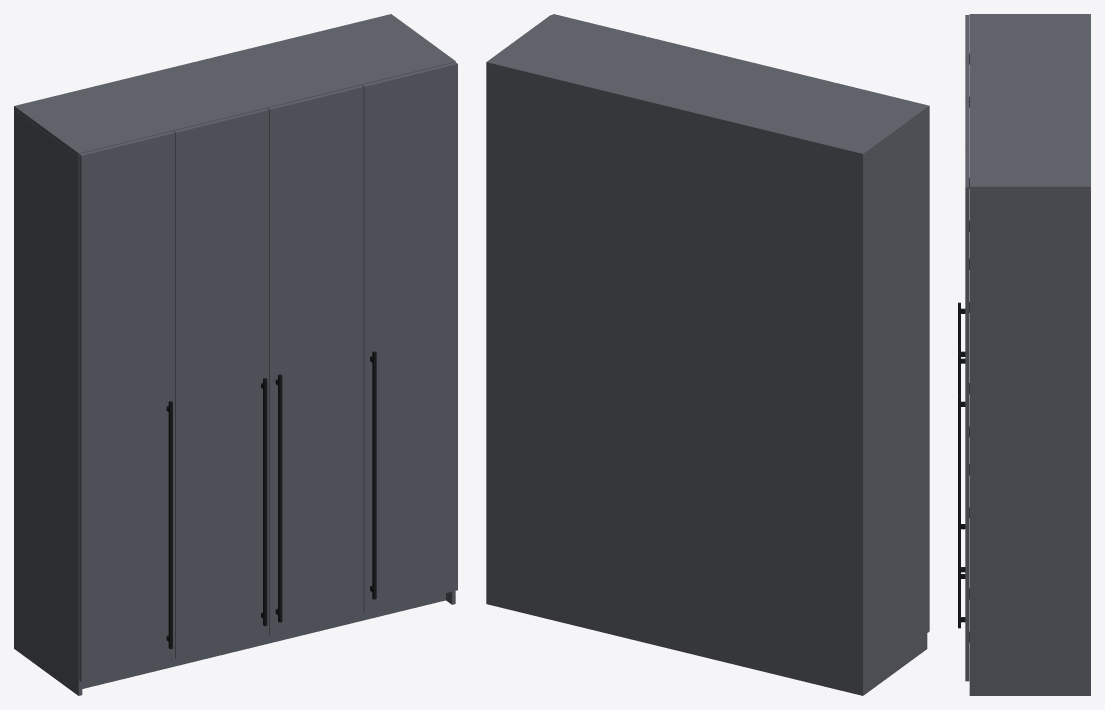
Rendered from wardrobe-08-four-door.glb.
3 views of the same model, side by side, from view 1: azimuth 30°, elevation 25°; view 2: azimuth 150°, elevation 25°; view 3: azimuth 270°, elevation 25° (orthographic). The views are drawn at different scales.
Parts seen in each view (by area): view 1: Door_Outer_Right_Panel_Tile_ccc, Door_Outer_Left_Panel_Tile_ccc, Door_Center_Right_Panel_Tile_ccc, Door_Center_Left_Panel_Tile_ccc, Panel_Side_Left_Tile_ccc, Panel_Top_Tile_ccc, Plinth_Front_Tile_ccc, Door_Outer_Left_Panel_Tile_mcc, Handle_Center_Right_Bar, Handle_Outer_Right_Bar, Handle_Center_Left_Bar, Handle_Outer_Left_Bar (+4 smaller); view 2: Panel_Back_Tile_ccc, Panel_Side_Left_Tile_ccc, Panel_Top_Tile_ccc, Door_Outer_Left_Panel_Tile_mcc; view 3: Panel_Side_Right_Tile_ccc, Panel_Top_Tile_ccc, Door_Outer_Right_Panel_Tile_pcc, Handle_Outer_Right_Bar, Panel_Top_Tile_pcc, Panel_Back_Tile_pcc, Panel_Side_Right_Tile_ccp, Panel_Side_Right_Tile_ccm.
Boxes of the visible parts, left/top/right/bottom form: Door_Outer_Right_Panel_Tile_ccc: left=364, top=64, right=457, bottom=612; Door_Outer_Left_Panel_Tile_ccc: left=81, top=133, right=174, bottom=681; Door_Center_Right_Panel_Tile_ccc: left=270, top=87, right=363, bottom=635; Door_Center_Left_Panel_Tile_ccc: left=176, top=110, right=268, bottom=658; Panel_Side_Left_Tile_ccc: left=14, top=111, right=78, bottom=695; Panel_Top_Tile_ccc: left=15, top=14, right=454, bottom=152; Plinth_Front_Tile_ccc: left=82, top=593, right=445, bottom=688; Door_Outer_Left_Panel_Tile_mcc: left=79, top=154, right=81, bottom=681; Handle_Center_Right_Bar: left=278, top=374, right=282, bottom=622; Handle_Outer_Right_Bar: left=372, top=351, right=376, bottom=599; Handle_Center_Left_Bar: left=263, top=378, right=267, bottom=626; Handle_Outer_Left_Bar: left=168, top=401, right=172, bottom=649; Panel_Back_Tile_ccc: left=486, top=62, right=862, bottom=695; Panel_Side_Left_Tile_ccc: left=863, top=111, right=927, bottom=694; Panel_Top_Tile_ccc: left=487, top=15, right=926, bottom=153; Door_Outer_Left_Panel_Tile_mcc: left=927, top=106, right=929, bottom=632; Panel_Side_Right_Tile_ccc: left=970, top=190, right=1089, bottom=695; Panel_Top_Tile_ccc: left=970, top=14, right=1089, bottom=186; Door_Outer_Right_Panel_Tile_pcc: left=965, top=187, right=969, bottom=680; Handle_Outer_Right_Bar: left=958, top=395, right=960, bottom=628; Panel_Top_Tile_pcc: left=970, top=186, right=1089, bottom=190; Panel_Back_Tile_pcc: left=1090, top=187, right=1090, bottom=695; Panel_Side_Right_Tile_ccp: left=969, top=190, right=969, bottom=695; Panel_Side_Right_Tile_ccm: left=1089, top=191, right=1089, bottom=695.
Bounding box in the file's own units: 1.6 × 2.2 × 0.52.
211 materials, 210 textured.
